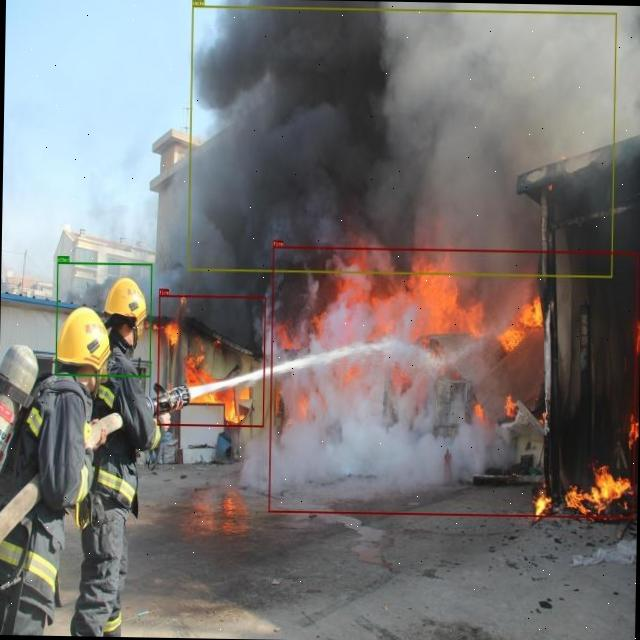fire: (268, 247, 638, 518), (157, 294, 266, 426)
smoke: (186, 5, 616, 277)
